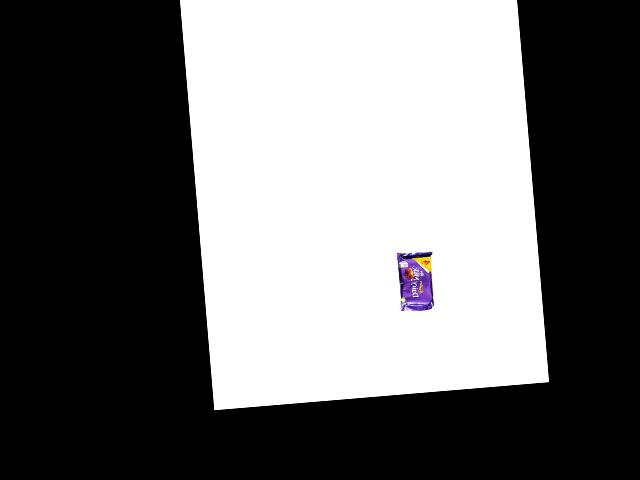chocolate: (391, 243, 436, 314)
